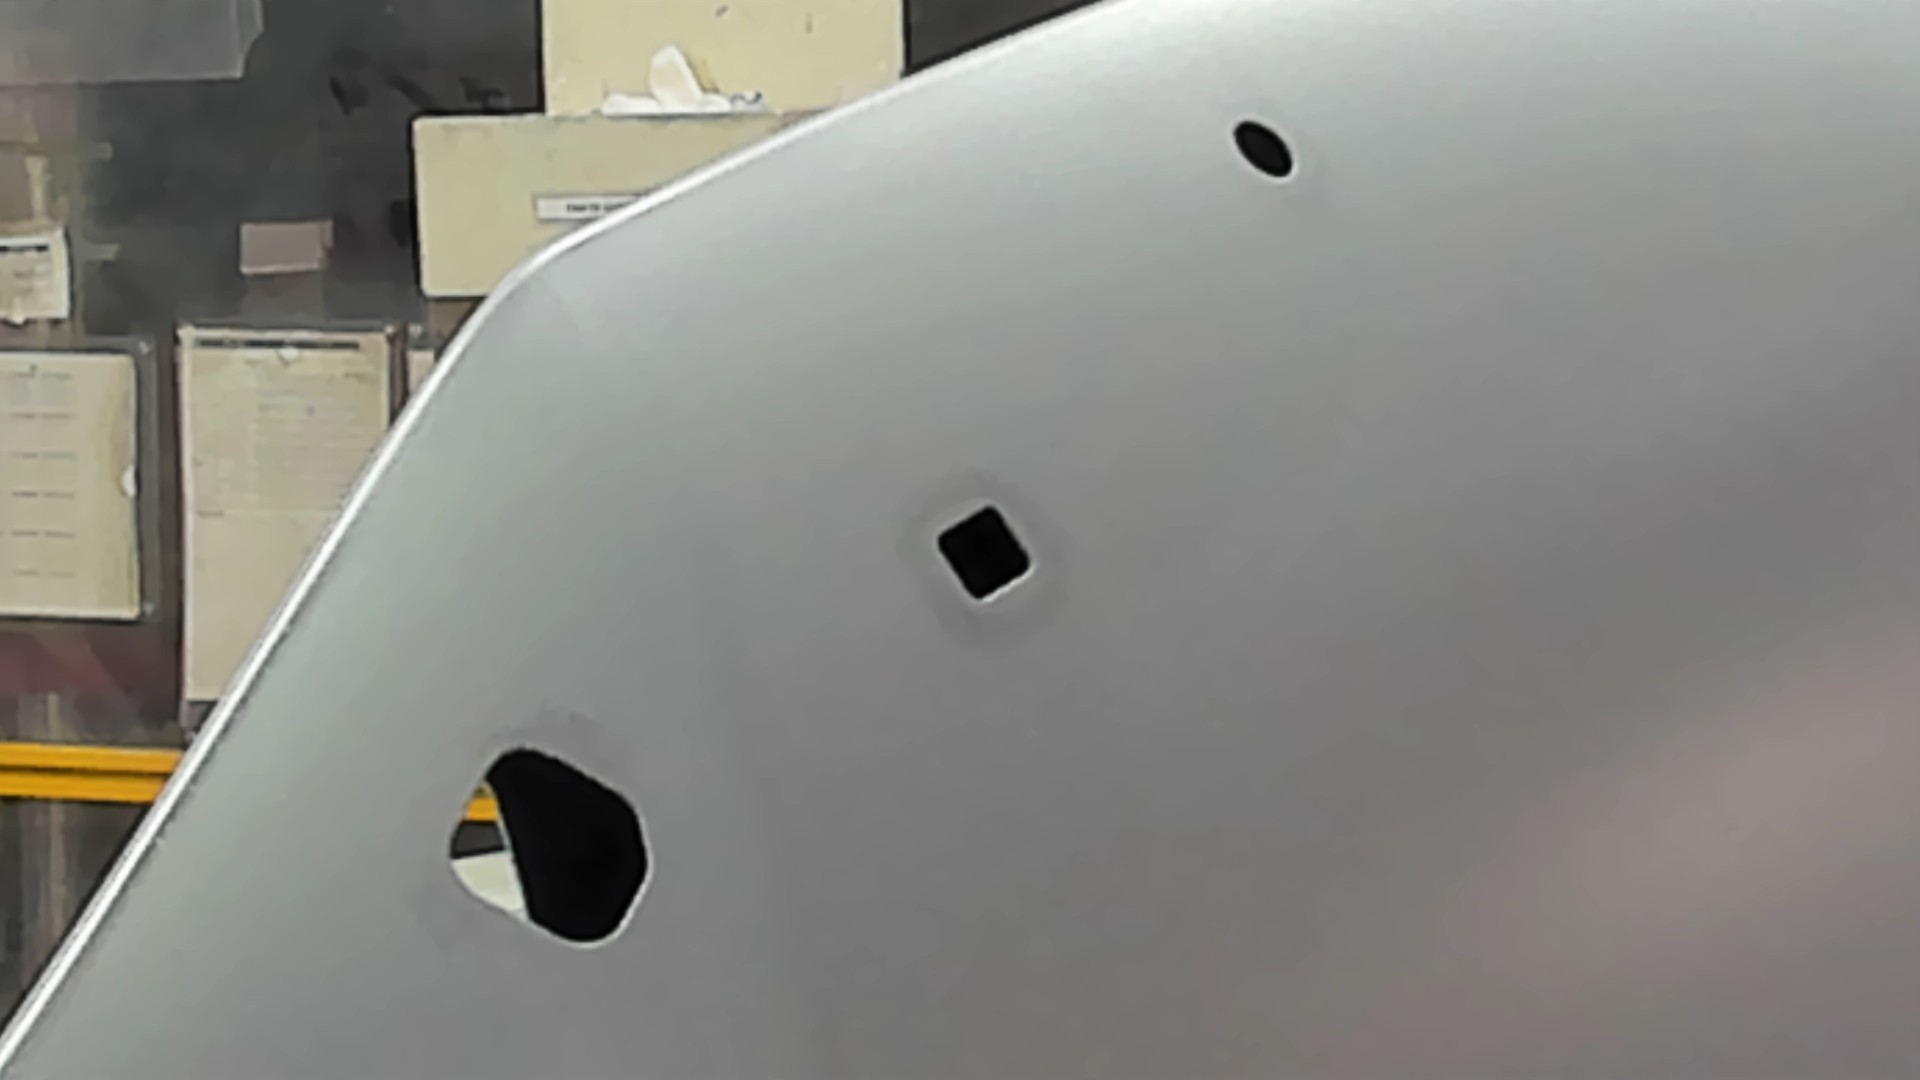chico: (1226, 115, 1300, 187)
grande: (442, 741, 657, 953)
mediano: (928, 496, 1039, 611)
